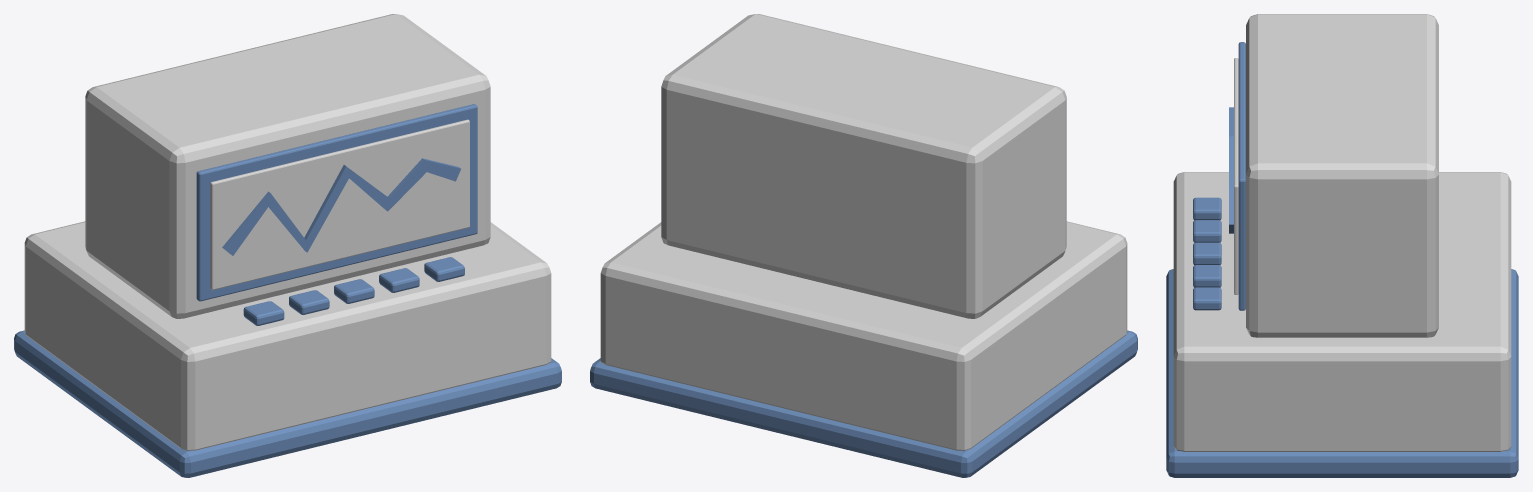
Rendered from monitoring.glb.
The picture shows the model from 3 angles, left to right: view 1: azimuth 30°, elevation 25°; view 2: azimuth 150°, elevation 25°; view 3: azimuth 270°, elevation 25°; orthographic projection.
Parts seen in each view (by area): view 1: desk, screen-block, screen, plinth, bezel, trace, key.0, key.2, key.1, key.3, key.4; view 2: screen-block, desk, plinth; view 3: screen-block, desk, plinth, bezel, screen, key.4, key.0, key.1, key.2, key.3, trace.
Boxes of the visible parts, x1,y1,x2,y2 form: desk: (24, 221, 551, 450); screen-block: (85, 14, 490, 318); screen: (210, 119, 469, 290); plinth: (14, 330, 561, 477); bezel: (196, 104, 477, 301); trace: (222, 158, 460, 255); key.0: (243, 301, 284, 325); key.2: (334, 279, 374, 303); key.1: (289, 290, 329, 314); key.3: (379, 268, 419, 292); key.4: (424, 257, 464, 281); screen-block: (661, 14, 1066, 318); desk: (600, 221, 1127, 450); plinth: (590, 330, 1137, 477); screen-block: (1246, 14, 1438, 337); desk: (1173, 172, 1511, 451); plinth: (1166, 269, 1518, 477); bezel: (1238, 42, 1245, 310); screen: (1234, 58, 1238, 294); key.4: (1193, 287, 1221, 310); key.0: (1193, 197, 1221, 220); key.1: (1193, 220, 1221, 242); key.2: (1193, 242, 1221, 265); key.3: (1193, 265, 1221, 287); trace: (1229, 107, 1233, 233).
Bounding box in the file's own units: 1.86 × 1.36 × 1.46.
